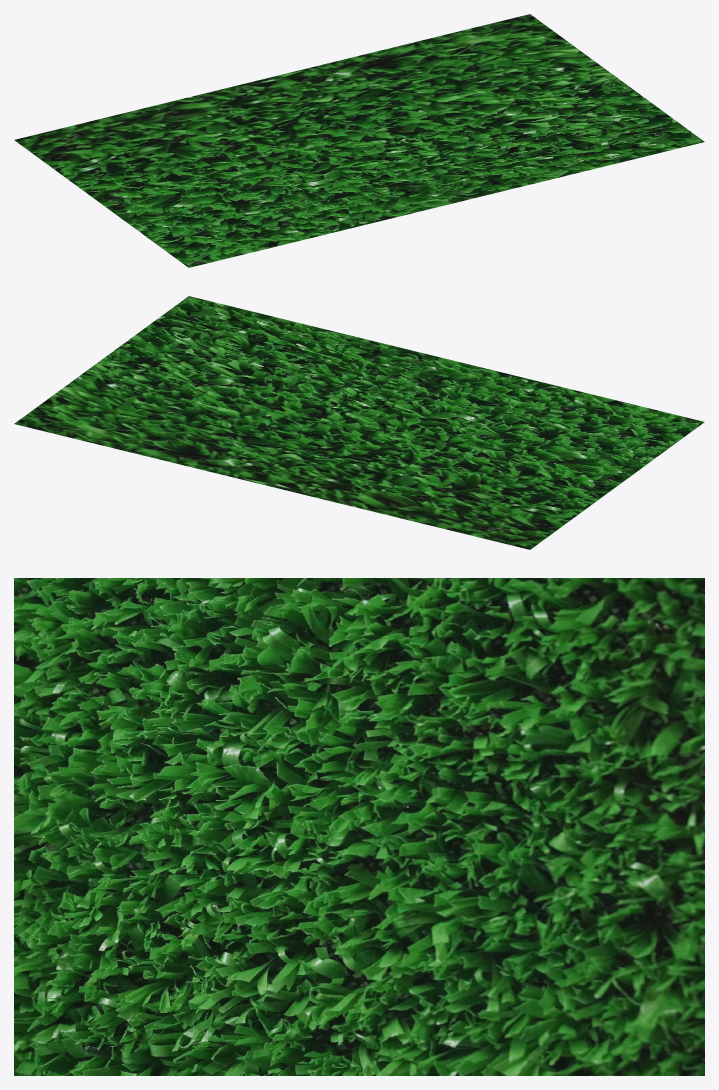
File: 大棚植被1.glb
3 views of the same model, one above another, from view 1: azimuth 30°, elevation 25°; view 2: azimuth 150°, elevation 25°; view 3: azimuth 270°, elevation 25° (orthographic). The views are drawn at different scales.
Visible parts, largest first — view 1: bq_pps_Forest-debris_Coniferous_B_spring-summer-autumn.001; view 2: bq_pps_Forest-debris_Coniferous_B_spring-summer-autumn.001; view 3: bq_pps_Forest-debris_Coniferous_B_spring-summer-autumn.001.
Part boxes in pixels (left/top/right/bottom): bq_pps_Forest-debris_Coniferous_B_spring-summer-autumn.001: left=14, top=14, right=704, bottom=267; bq_pps_Forest-debris_Coniferous_B_spring-summer-autumn.001: left=14, top=296, right=704, bottom=549; bq_pps_Forest-debris_Coniferous_B_spring-summer-autumn.001: left=14, top=578, right=704, bottom=1075.
Size of the model in its own units: 36.65 by 0 by 21.5.
1 material, 1 textured.
